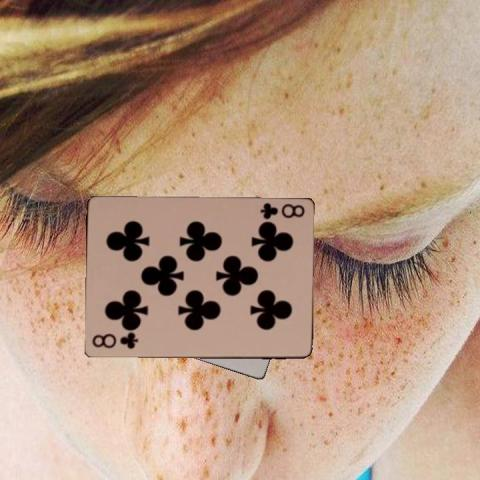8c: (257, 200, 306, 221), (90, 331, 140, 351)
